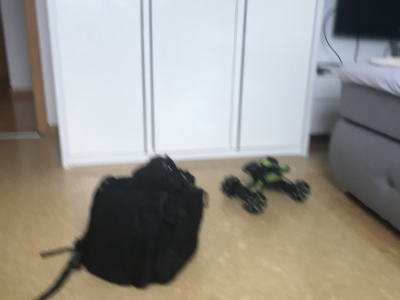remote control car: (220, 154, 312, 214)
